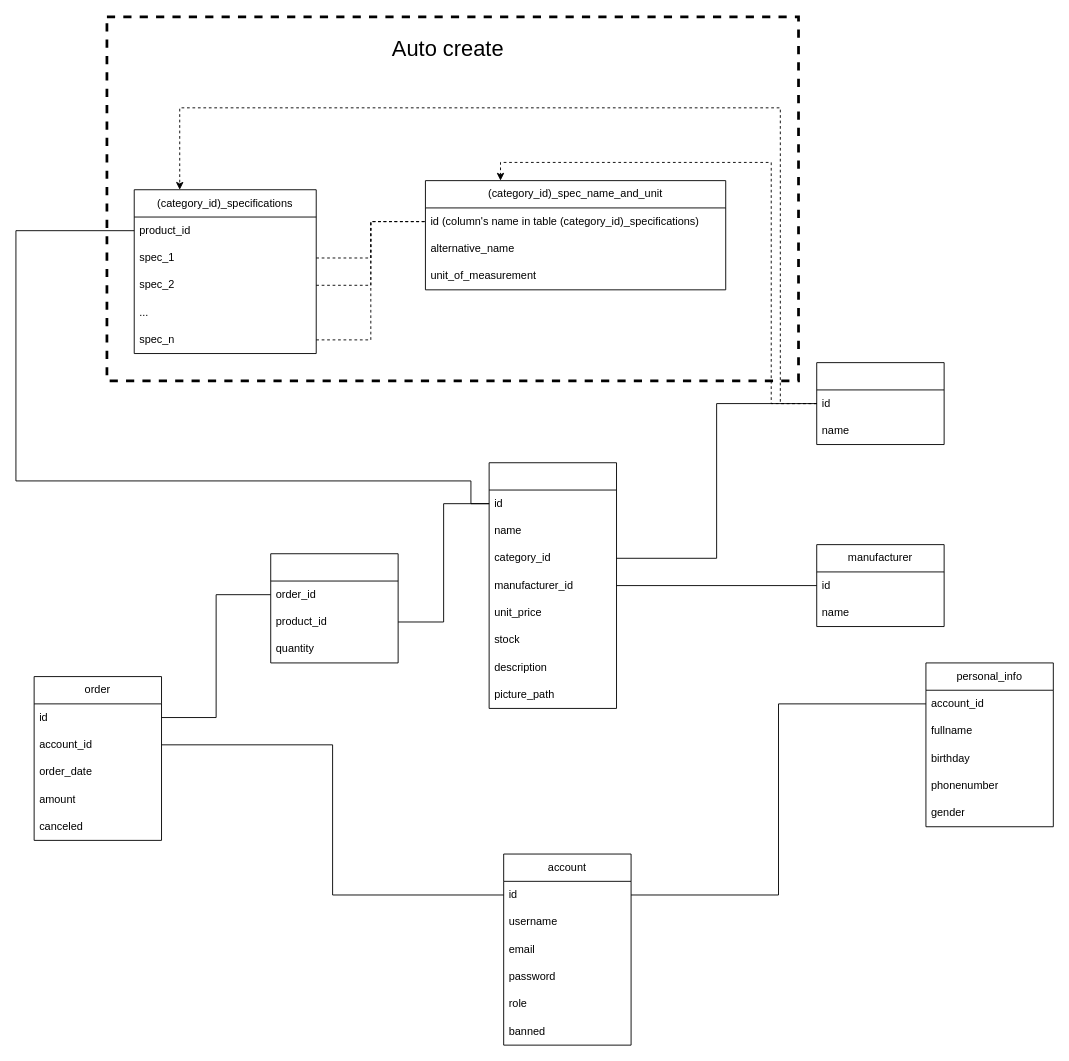
Some shapes in this 1069 by 1061 pixel diagram are drawn without their labels. Here are the shapes that lost their labels. From the top down, the box of each, then its label:
(816, 362, 944, 445): category
(488, 462, 617, 708): product
(270, 553, 398, 663): order_details
